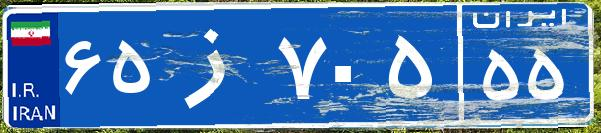0: (330, 28, 385, 110)
5: (385, 28, 445, 110), (475, 38, 525, 113), (110, 28, 158, 105), (525, 38, 570, 115)
6: (57, 26, 110, 107)
7: (273, 28, 330, 110)
ز: (158, 15, 273, 115)
